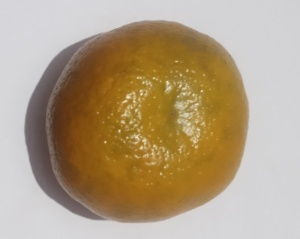BAD: (46, 16, 252, 227)
